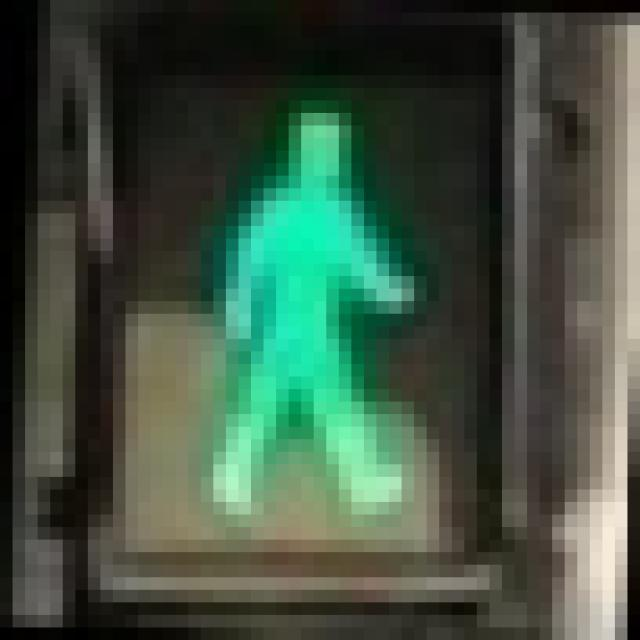geen-crossing: (176, 76, 440, 514)
